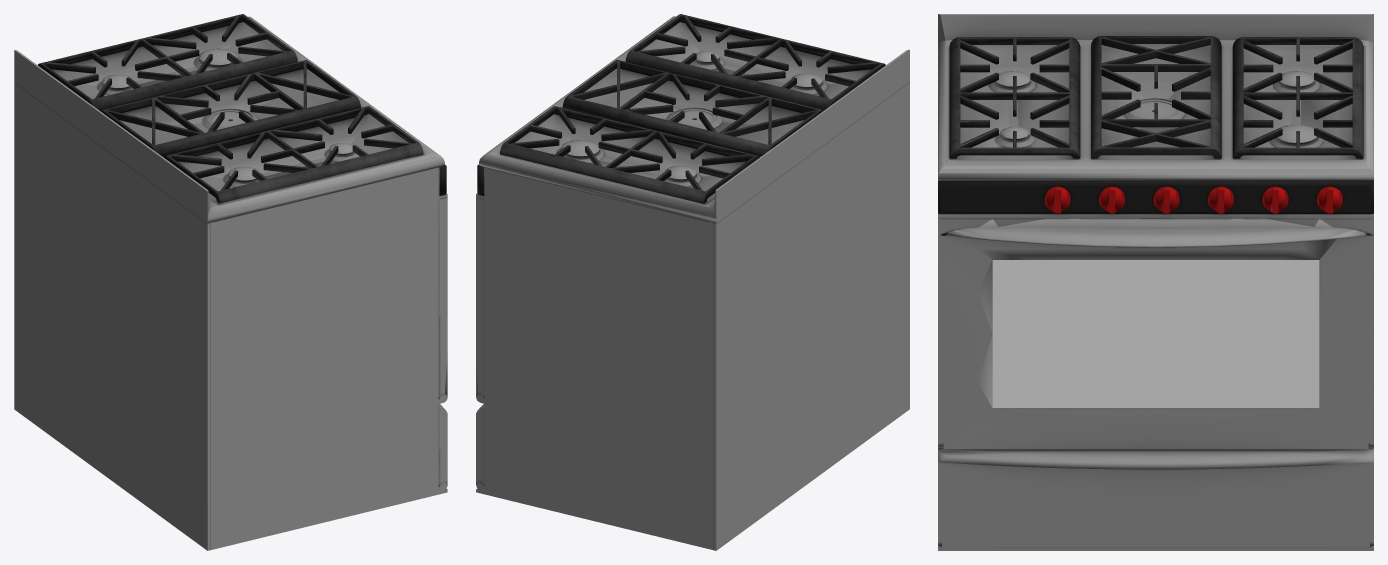
Rendered from glass.dae.
The picture shows the model from 3 angles, left to right: view 1: azimuth 30°, elevation 25°; view 2: azimuth 150°, elevation 25°; view 3: azimuth 270°, elevation 25°; orthographic projection. The views are drawn at different scales.
Parts seen in each view (by area): view 1: Oven; view 2: Oven; view 3: Oven, Glass.
Part boxes in pixels (x1,y1,x2,y2): Oven: [14, 14, 447, 550]; Oven: [476, 14, 909, 550]; Oven: [938, 14, 1373, 550]; Glass: [992, 260, 1319, 407].
Bounding box in the file's own units: 0.7545 × 0.9614 × 0.9855.
2 materials, 2 textured.
